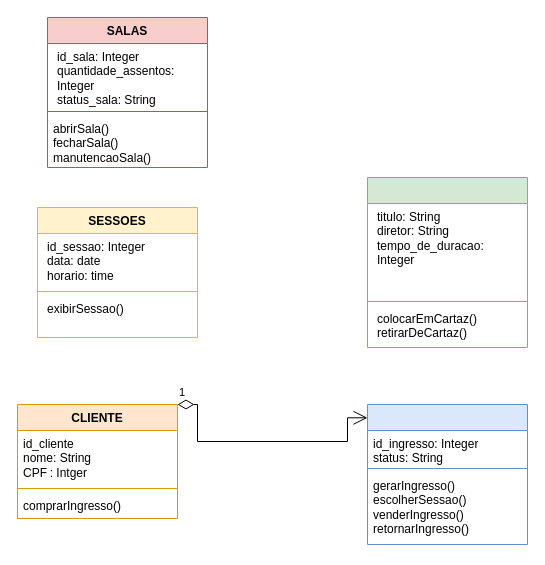
Some shapes in this 545 by 565 pixel diagram are drawn without their labels. Here are the shapes that lost their labels. From the top down, the box of each, then its label:
(366, 176, 528, 348): FILMES
(366, 404, 528, 544): INGRESSOS
